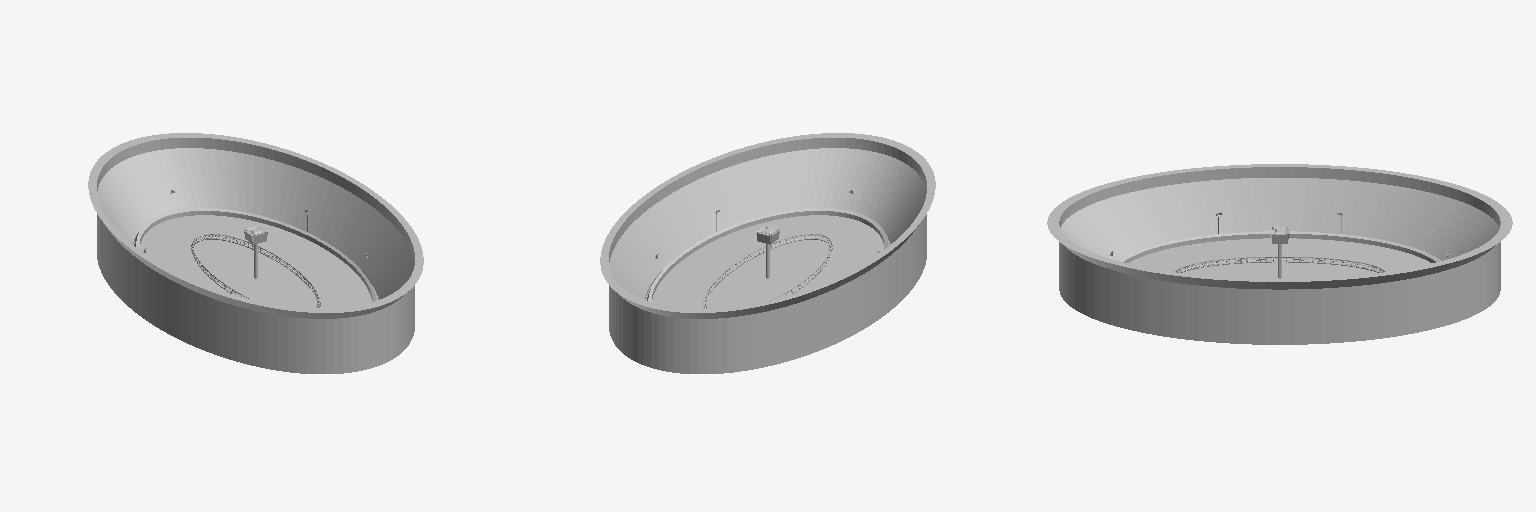
Rendered from decors_sans_piste.obj.
The picture shows the model from 3 angles: view 1: azimuth 30°, elevation 25°; view 2: azimuth 150°, elevation 25°; view 3: azimuth 270°, elevation 25°; orthographic projection.
Visible parts, largest first — view 1: Gradin, Barriere_exterieure, Barriere_interieure; view 2: Gradin, Barriere_exterieure, Barriere_interieure; view 3: Gradin, Barriere_exterieure, Barriere_interieure.
Part boxes in pixels (bbox=[...]): Gradin: bbox=[88, 133, 423, 373]; Barriere_exterieure: bbox=[134, 208, 376, 301]; Barriere_interieure: bbox=[191, 234, 320, 307]; Gradin: bbox=[600, 133, 935, 373]; Barriere_exterieure: bbox=[647, 208, 889, 301]; Barriere_interieure: bbox=[703, 234, 832, 307]; Gradin: bbox=[1047, 164, 1512, 344]; Barriere_exterieure: bbox=[1119, 231, 1440, 262]; Barriere_interieure: bbox=[1174, 257, 1385, 272].
Size of the model in its own units: 205 by 53.51 by 342.